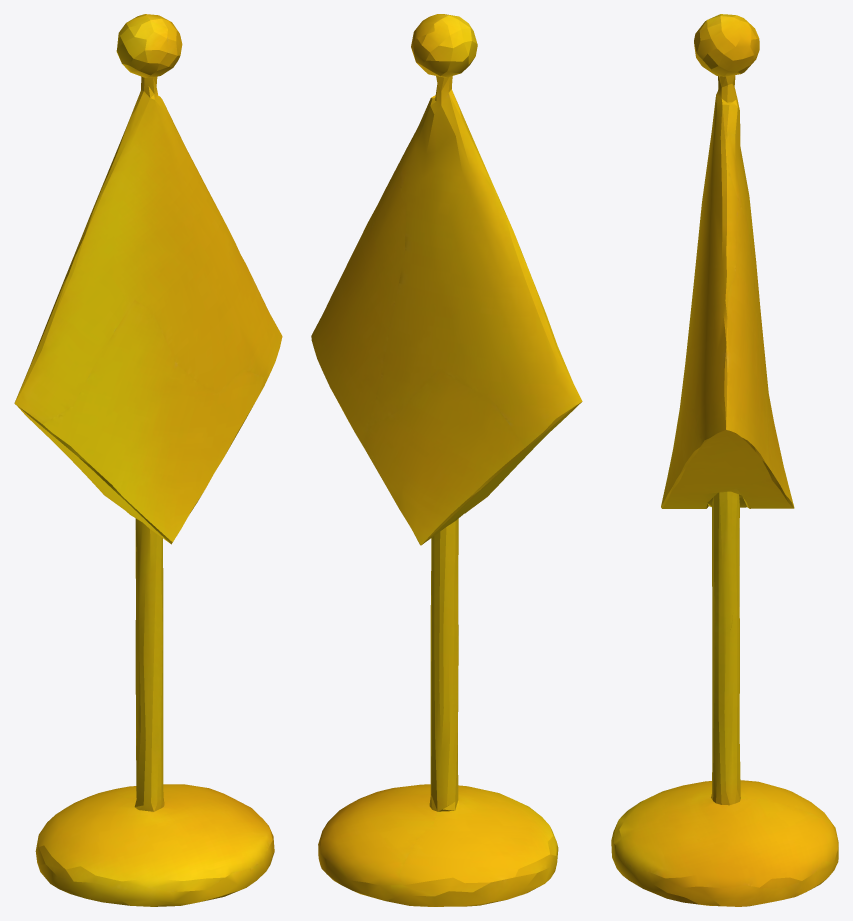
The model's file is checkpoint-flag.glb.
3 renders of one model, left to right at view 1: azimuth 30°, elevation 25°; view 2: azimuth 150°, elevation 25°; view 3: azimuth 270°, elevation 25°, orthographic.
Visible parts, largest first — view 1: model; view 2: model; view 3: model.
Part boxes in pixels (x1,y1,x2,y2): model: (14, 14, 282, 906); model: (311, 14, 582, 906); model: (611, 14, 838, 906).
Bounding box in the file's own units: 0.6343 × 1.9 × 0.4672.
1 material, 1 textured.
